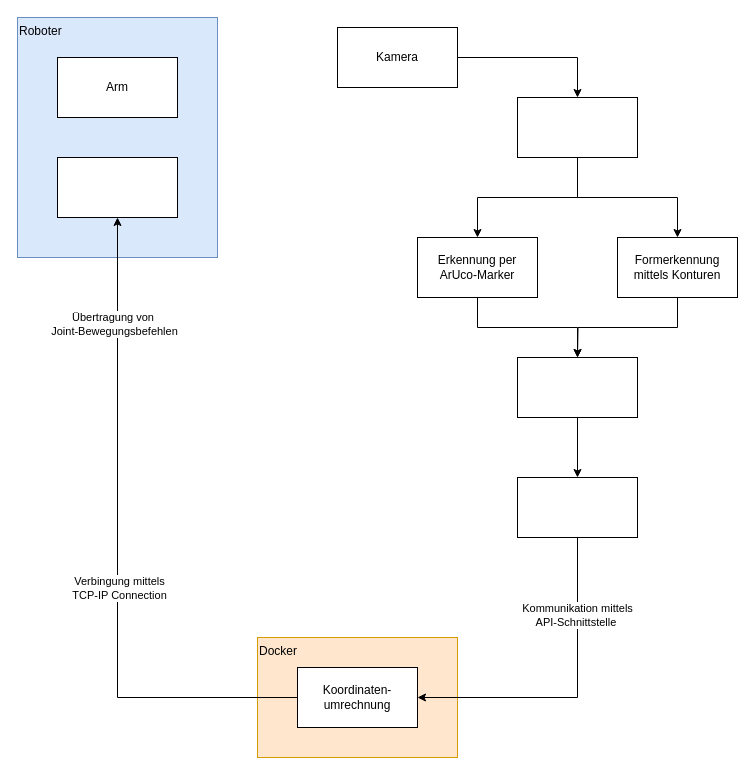
The diagram is 755 pixels wide and 775 high, and some of its shapes have lost their labels. Here are the shapes that lost their labels. From the top down, the centre of each, then its label:
At [577,127]: "Import des aktuellen Image".
At [117,187]: "Robotercontroller".
At [577,387]: "Bestimmung der Teile".
At [577,507]: "Positionsbestimmung mit relativen Koordinaten".
